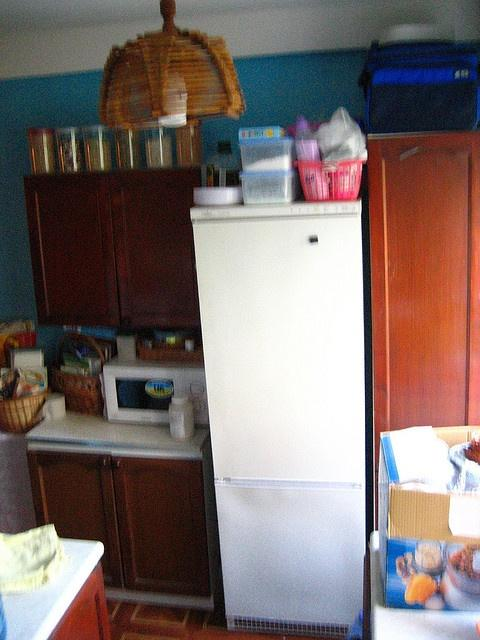Lemari: (366, 132, 479, 428), (22, 164, 201, 326), (27, 446, 211, 602)
